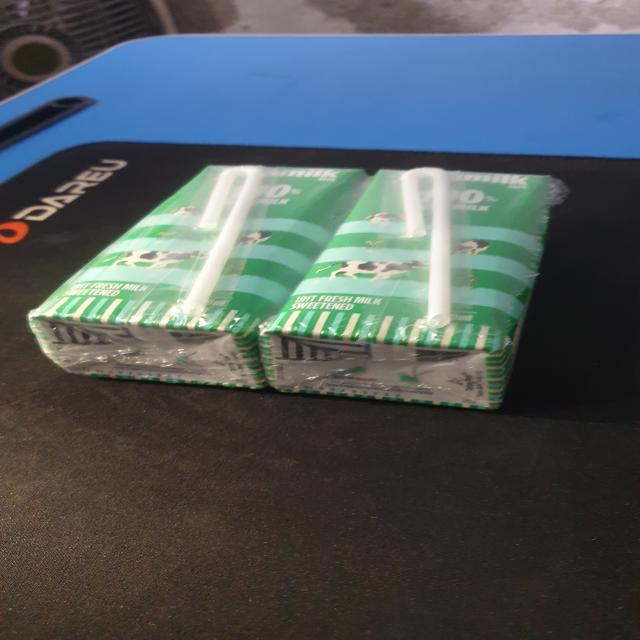Vina: (32, 166, 376, 393), (263, 169, 563, 411)
